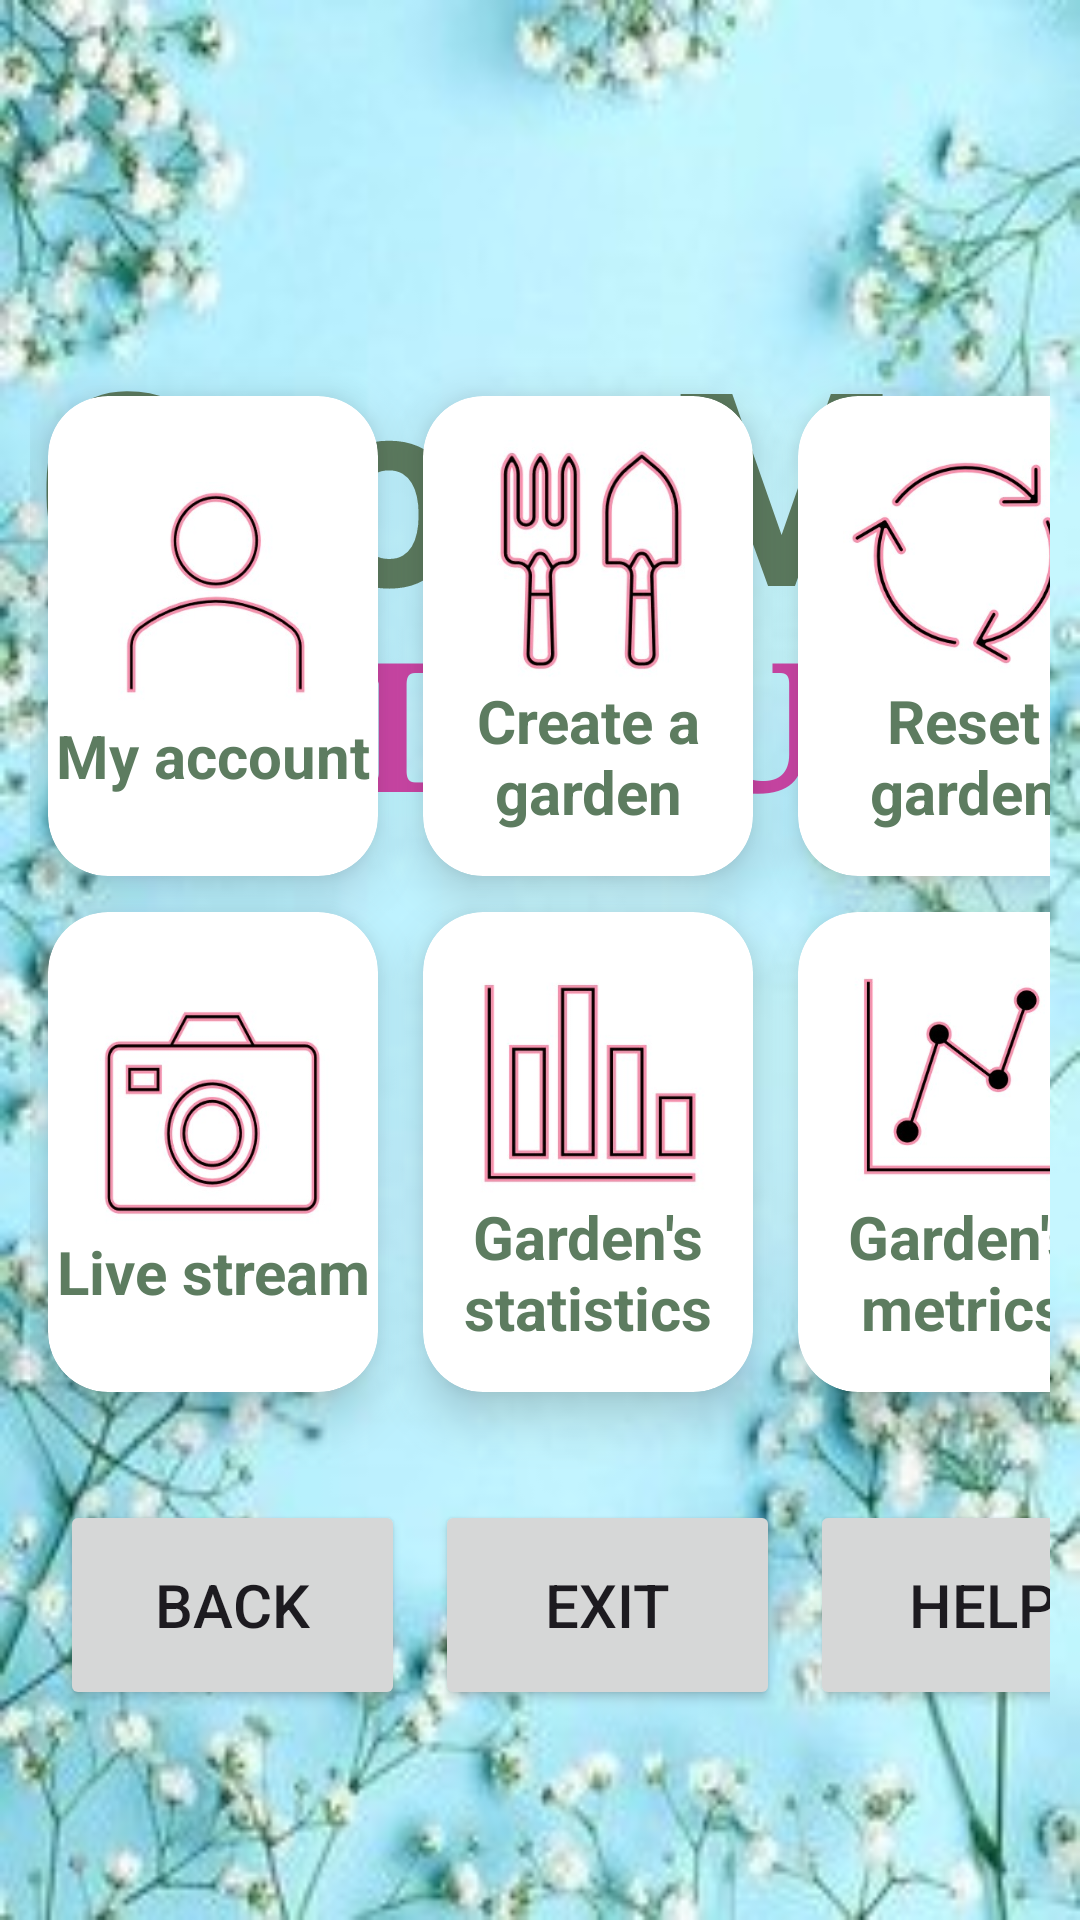

Icon bounding boxes for this 1080*1920 phone screenshot, format rect(x1, y1, x2, y2):
camera: rect(105, 1012, 320, 1214)
user: rect(127, 493, 305, 693)
